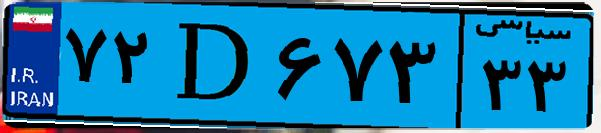2: (110, 28, 158, 98)
3: (385, 28, 445, 110), (475, 38, 525, 113), (525, 38, 570, 115)
6: (270, 28, 330, 110)
7: (330, 28, 385, 110), (57, 26, 110, 100)
D: (158, 12, 270, 120)
